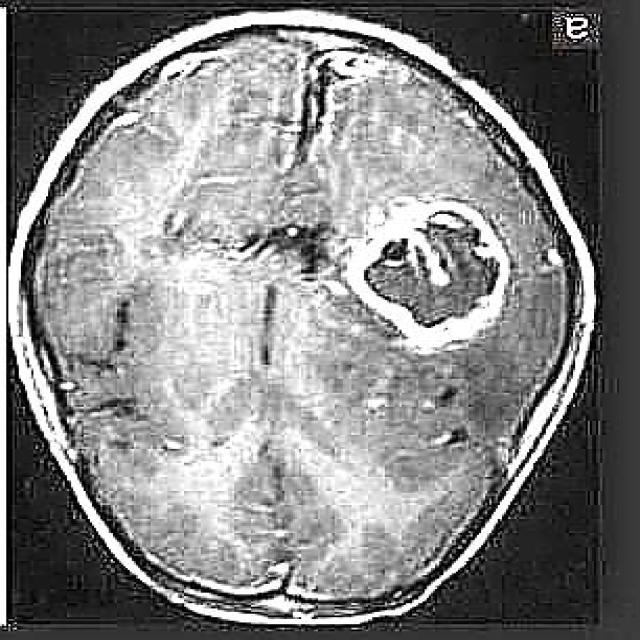Tumor-Cell: (354, 201, 515, 335)
